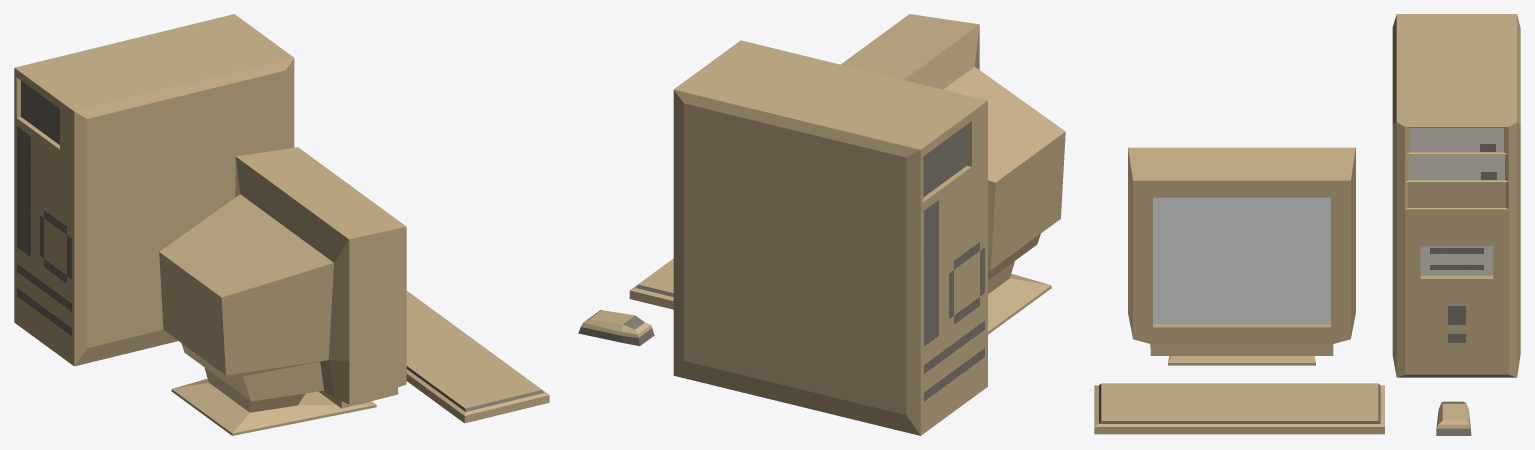
File: Cumputer.fbx
3 renders of one model, left to right at view 1: azimuth 30°, elevation 25°; view 2: azimuth 150°, elevation 25°; view 3: azimuth 270°, elevation 25°, orthographic. The views are drawn at different scales.
Visible parts, largest first — view 1: proc_old1_0, mon_old_pc2_0, key_old_pc3_0; view 2: proc_old1_0, mon_old_pc2_0, mous_OLD_PC4_0, key_old_pc3_0; view 3: mon_old_pc2_0, proc_old1_0, key_old_pc3_0, mous_OLD_PC4_0.
Boxes of the visible parts, x1,y1,x2,y2 form: proc_old1_0: [14, 14, 294, 366]; mon_old_pc2_0: [159, 147, 406, 435]; key_old_pc3_0: [406, 291, 549, 423]; proc_old1_0: [673, 40, 987, 435]; mon_old_pc2_0: [841, 14, 1065, 334]; mous_OLD_PC4_0: [578, 310, 654, 346]; key_old_pc3_0: [629, 258, 673, 309]; mon_old_pc2_0: [1128, 147, 1355, 365]; proc_old1_0: [1392, 14, 1520, 377]; key_old_pc3_0: [1094, 383, 1384, 434]; mous_OLD_PC4_0: [1436, 401, 1471, 435].
Bounding box in the file's own units: 184 × 140 × 206.
